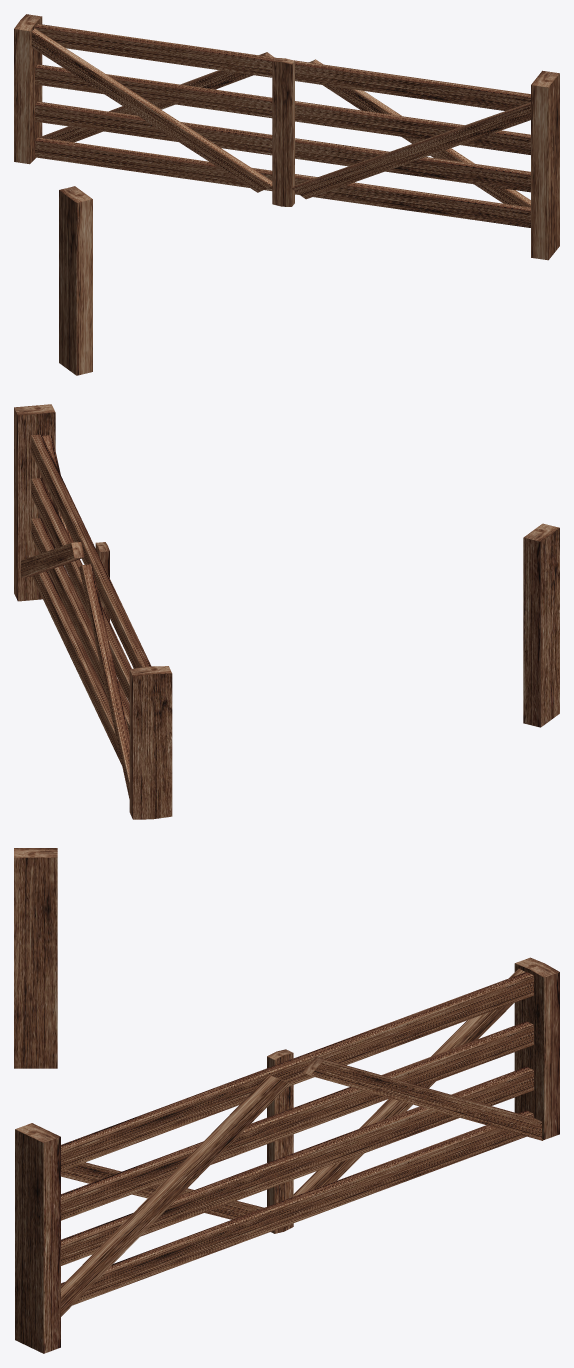
File: portao_aberto.fbx
3 renders of one model, top to bottom at view 1: azimuth 30°, elevation 25°; view 2: azimuth 150°, elevation 25°; view 3: azimuth 270°, elevation 25°, orthographic. The views are drawn at different scales.
Parts seen in each view (by area): view 1: Cube; view 2: Cube; view 3: Cube.
Part boxes in pixels (box(x1,y1,x2,y2)): Cube: box(14, 14, 559, 375); Cube: box(14, 404, 559, 819); Cube: box(14, 848, 559, 1353).
Size of the model in its own units: 10.17 by 3.39 by 7.95.
